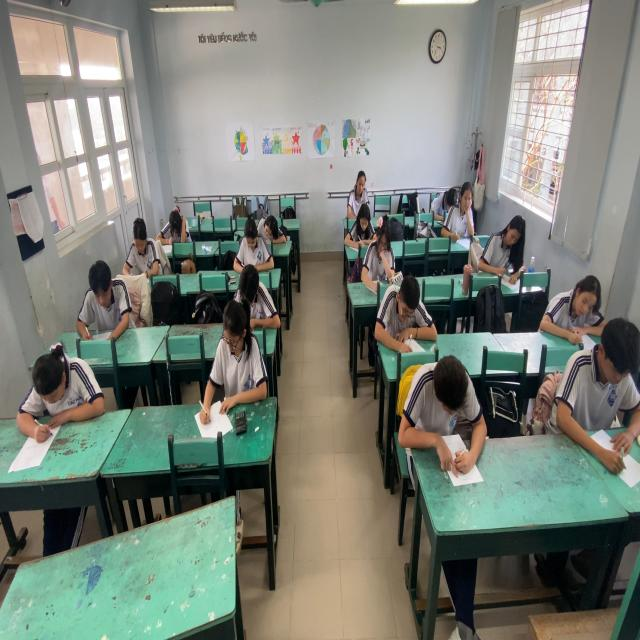not_cheating: (567, 316, 640, 436), (19, 342, 103, 422), (408, 349, 476, 446), (73, 257, 132, 340), (380, 260, 429, 342), (540, 274, 606, 333), (213, 305, 262, 381), (233, 250, 281, 326), (232, 215, 276, 271), (126, 208, 164, 270), (487, 218, 532, 260), (371, 212, 396, 278), (344, 201, 377, 250), (159, 204, 192, 243), (254, 208, 287, 246), (458, 181, 479, 229), (350, 170, 370, 215), (436, 188, 454, 229)
